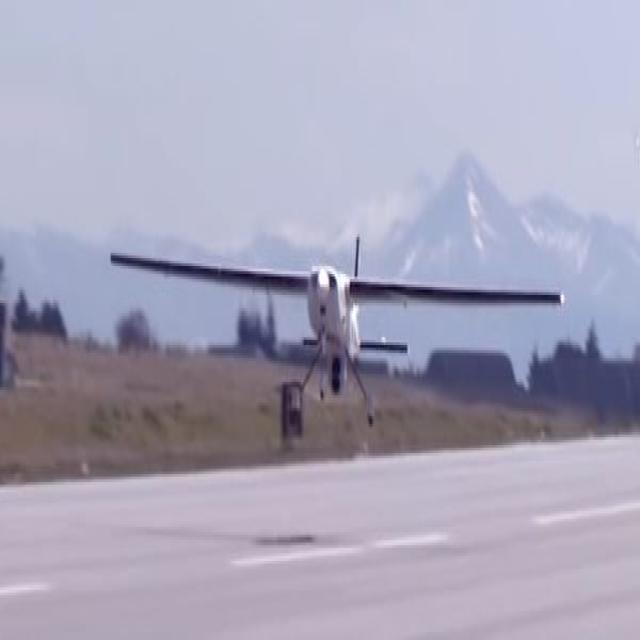iha: (111, 219, 564, 429)
